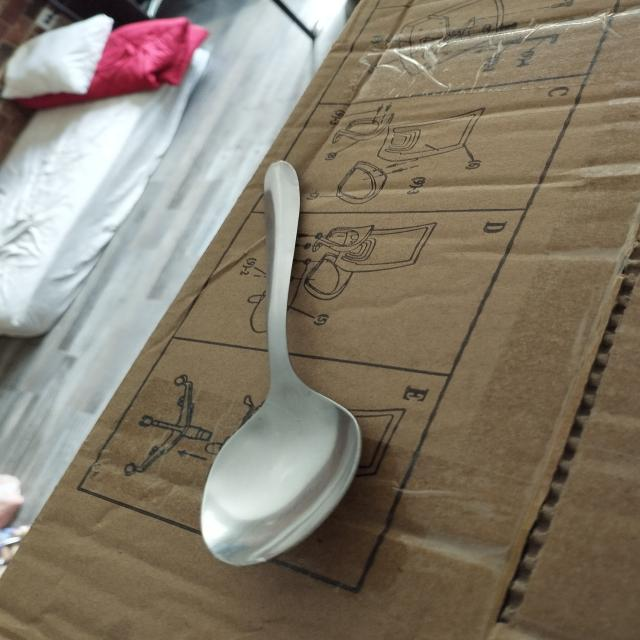Spoon: (177, 152, 384, 570)
